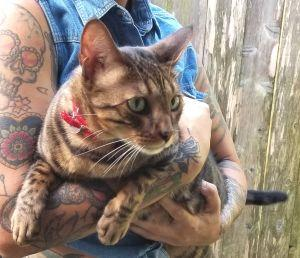bengal: (76, 18, 198, 159)
